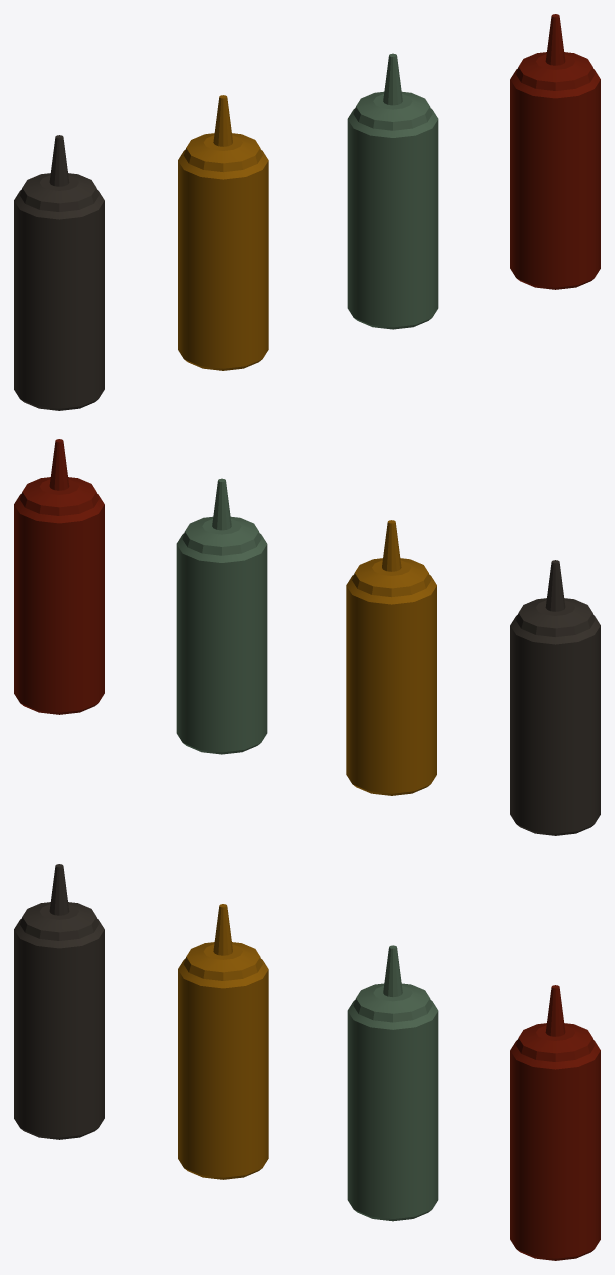
Rendered from Sauce Container.fbx.
3 renders of one model, top to bottom at view 1: azimuth 30°, elevation 25°; view 2: azimuth 150°, elevation 25°; view 3: azimuth 330°, elevation 25°, orthographic.
Parts seen in each view (by area): view 1: Sauce_container_Ectoplasm, Sauce_container_BloodSauce, Sauce_container_Swamp_mud, Sauce_container_Hell_Blood; view 2: Sauce_container_Ectoplasm, Sauce_container_BloodSauce, Sauce_container_Swamp_mud, Sauce_container_Hell_Blood; view 3: Sauce_container_Ectoplasm, Sauce_container_Swamp_mud, Sauce_container_BloodSauce, Sauce_container_Hell_Blood.
Part boxes in pixels (x1,y1,x2,y2): Sauce_container_Ectoplasm: [347, 53, 438, 329]; Sauce_container_BloodSauce: [510, 14, 600, 289]; Sauce_container_Swamp_mud: [14, 135, 104, 410]; Sauce_container_Hell_Blood: [178, 95, 268, 370]; Sauce_container_Ectoplasm: [176, 478, 267, 754]; Sauce_container_BloodSauce: [14, 439, 104, 714]; Sauce_container_Swamp_mud: [510, 560, 600, 835]; Sauce_container_Hell_Blood: [346, 520, 436, 795]; Sauce_container_Ectoplasm: [347, 945, 438, 1221]; Sauce_container_Swamp_mud: [14, 864, 104, 1139]; Sauce_container_BloodSauce: [510, 985, 600, 1260]; Sauce_container_Hell_Blood: [178, 904, 268, 1179].
Size of the model in its own units: 0.4488 by 0.1916 by 0.0614.
